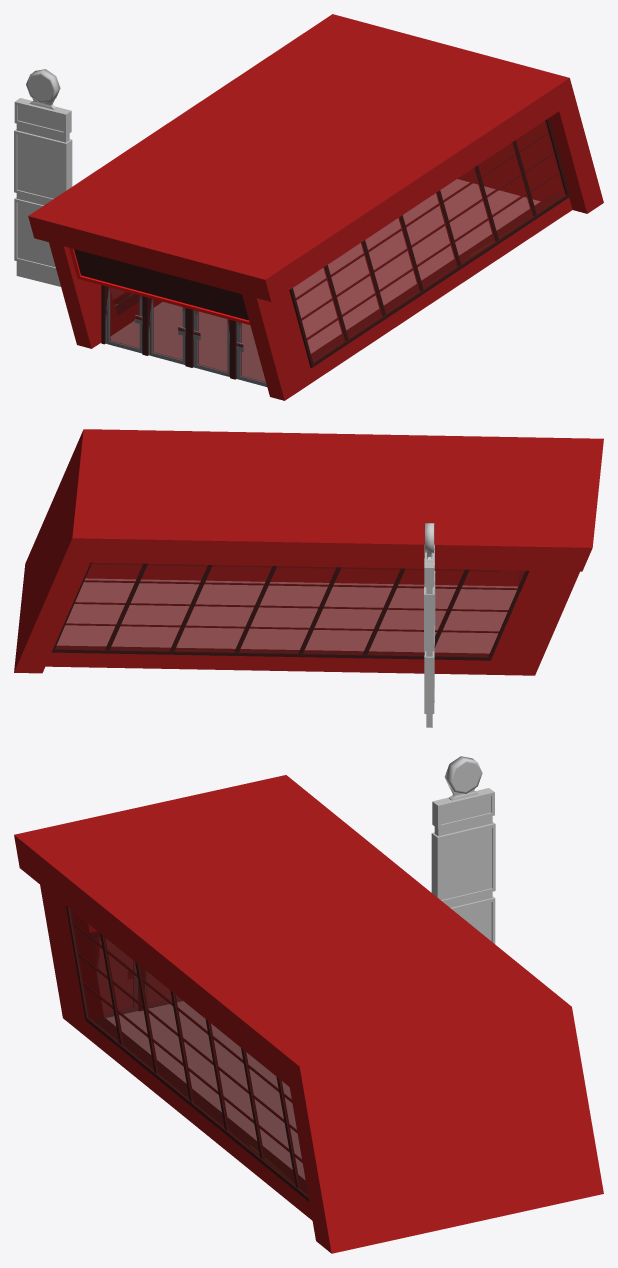
The model's file is MODEL_Elements.FBX.
3 renders of one model, top to bottom at view 1: azimuth 30°, elevation 25°; view 2: azimuth 150°, elevation 25°; view 3: azimuth 270°, elevation 25°, orthographic. The views are drawn at different scales.
Parts seen in each view (by area): view 1: SubwayDown_v01, SM_SubwayBoard_v01_000; view 2: SubwayDown_v01, SM_SubwayBoard_v01_000; view 3: SubwayDown_v01, SM_SubwayBoard_v01_000.
Boxes of the visible parts, x1,y1,x2,y2 form: SubwayDown_v01: (28, 14, 603, 400); SM_SubwayBoard_v01_000: (14, 69, 72, 286); SubwayDown_v01: (14, 429, 603, 675); SM_SubwayBoard_v01_000: (424, 523, 435, 727); SubwayDown_v01: (14, 775, 603, 1253); SM_SubwayBoard_v01_000: (431, 756, 495, 943).
Size of the model in its own units: 19.03 by 6.4 by 14.93.
